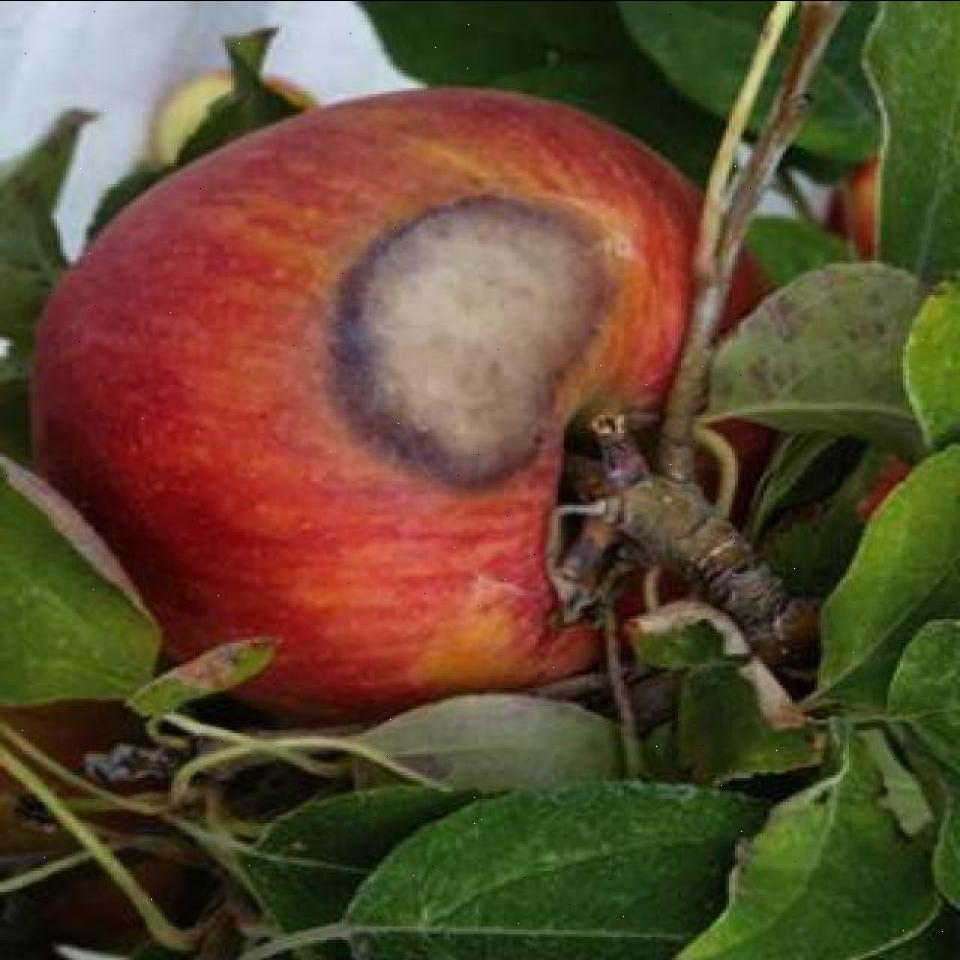Sunscald: (317, 164, 617, 488)
